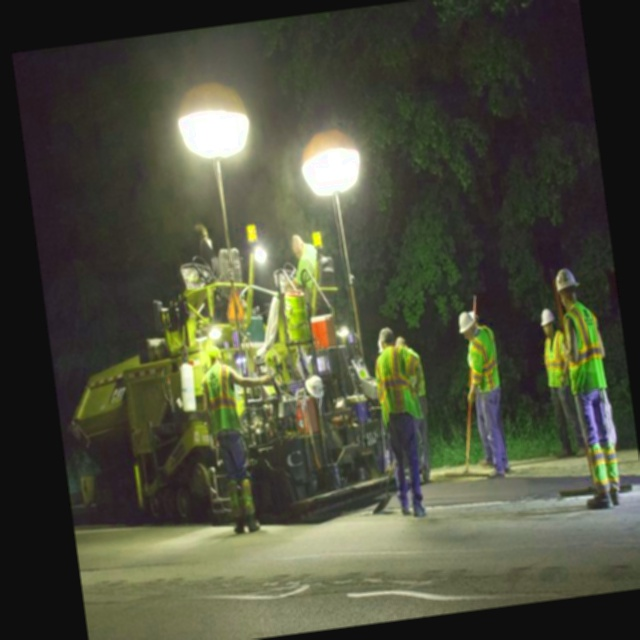Con_Casco: (554, 266, 582, 302), (538, 308, 557, 333)
Con_Chaleco: (559, 299, 611, 395), (373, 343, 425, 425), (202, 361, 244, 435), (465, 324, 505, 396), (540, 331, 570, 392)
